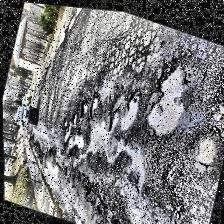pothole: (76, 100, 160, 192), (138, 51, 196, 141), (115, 87, 141, 133), (191, 129, 221, 165), (62, 128, 88, 158), (216, 79, 224, 123), (78, 97, 89, 115), (70, 110, 78, 125)
